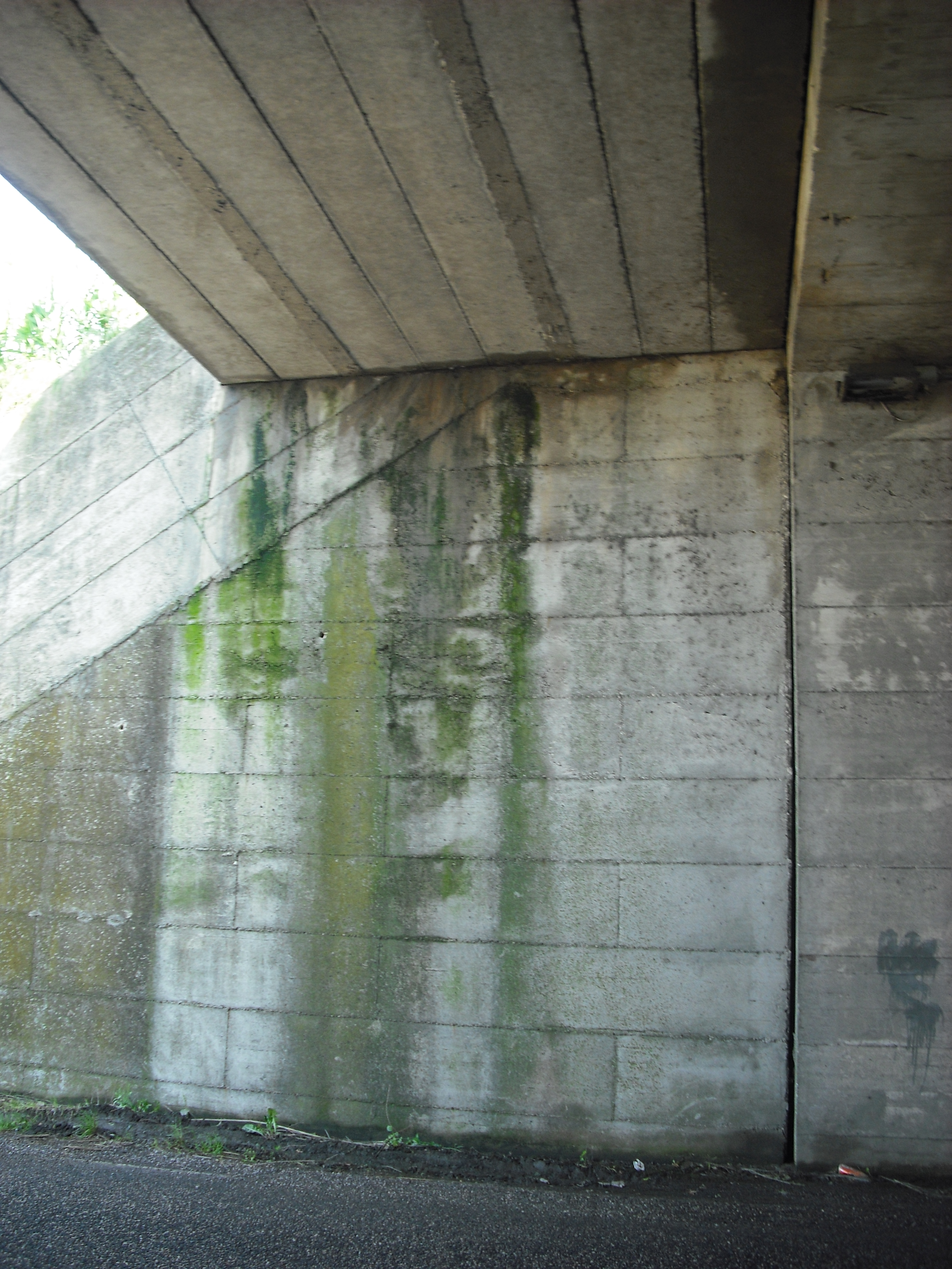Leaching: (204, 379, 567, 727)
